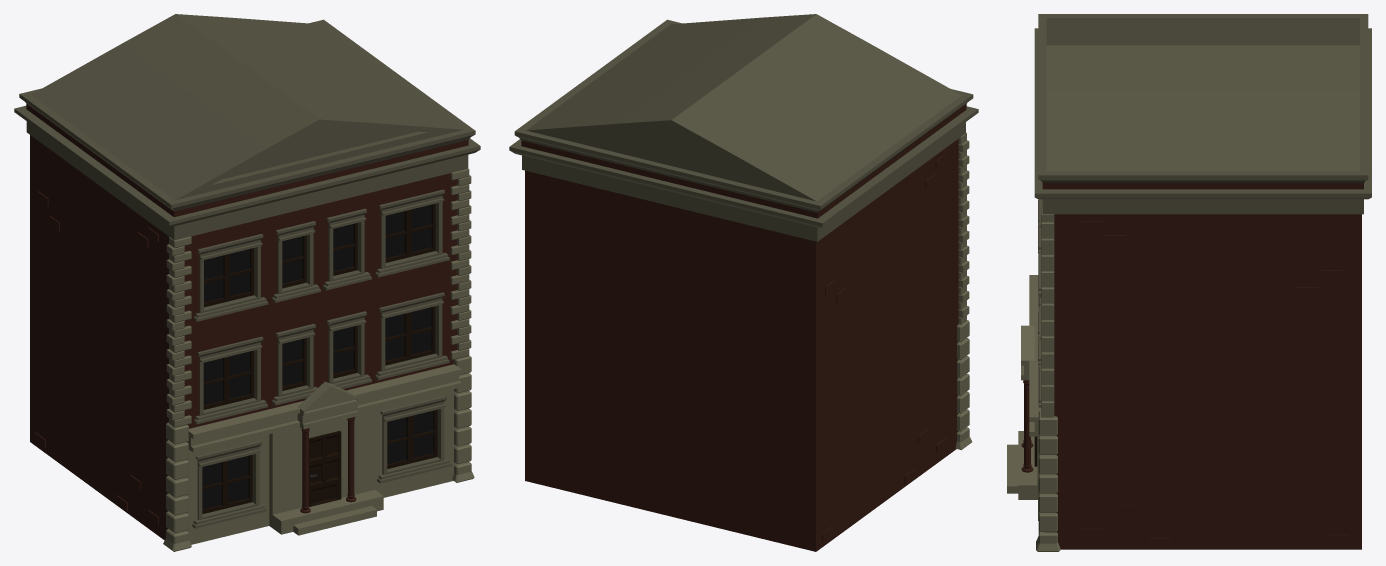
The model's file is Building3_Big.fbx.
3 renders of one model, left to right at view 1: azimuth 30°, elevation 25°; view 2: azimuth 150°, elevation 25°; view 3: azimuth 270°, elevation 25°, orthographic. The views are drawn at different scales.
Parts seen in each view (by area): view 1: Building3_Big; view 2: Building3_Big; view 3: Building3_Big.
Boxes of the visible parts, left/top/right/bottom form: Building3_Big: left=14, top=14, right=480, bottom=551; Building3_Big: left=509, top=14, right=978, bottom=551; Building3_Big: left=1007, top=14, right=1371, bottom=551.
Size of the model in its own units: 4.71 by 5.68 by 4.39.
